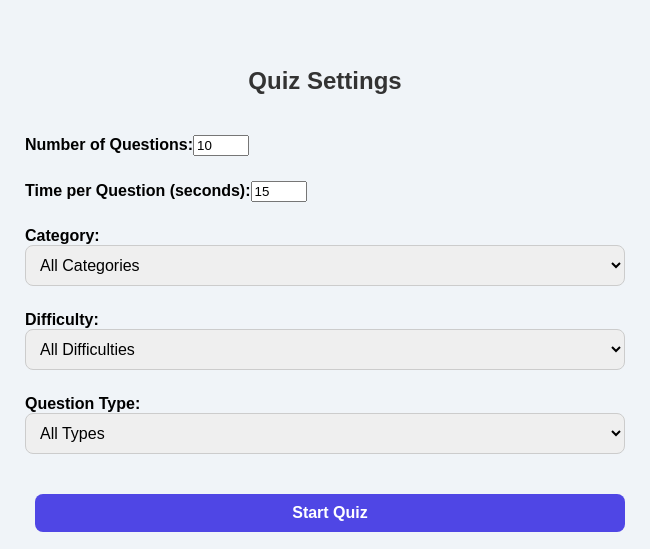
Test: Quiz (integration) › shows an error message when the API returns no questions
Click the button "Start Quiz": (330, 513) [35,494,625,532]
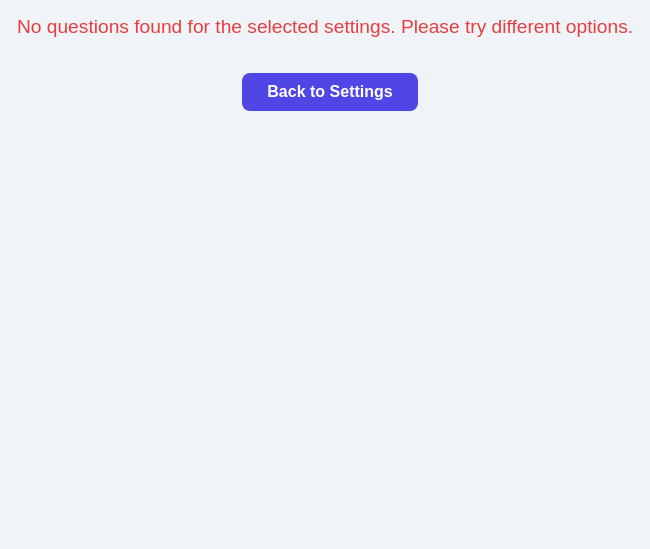
Now the text "No questions found" is shown, box [17,16,633,37]
